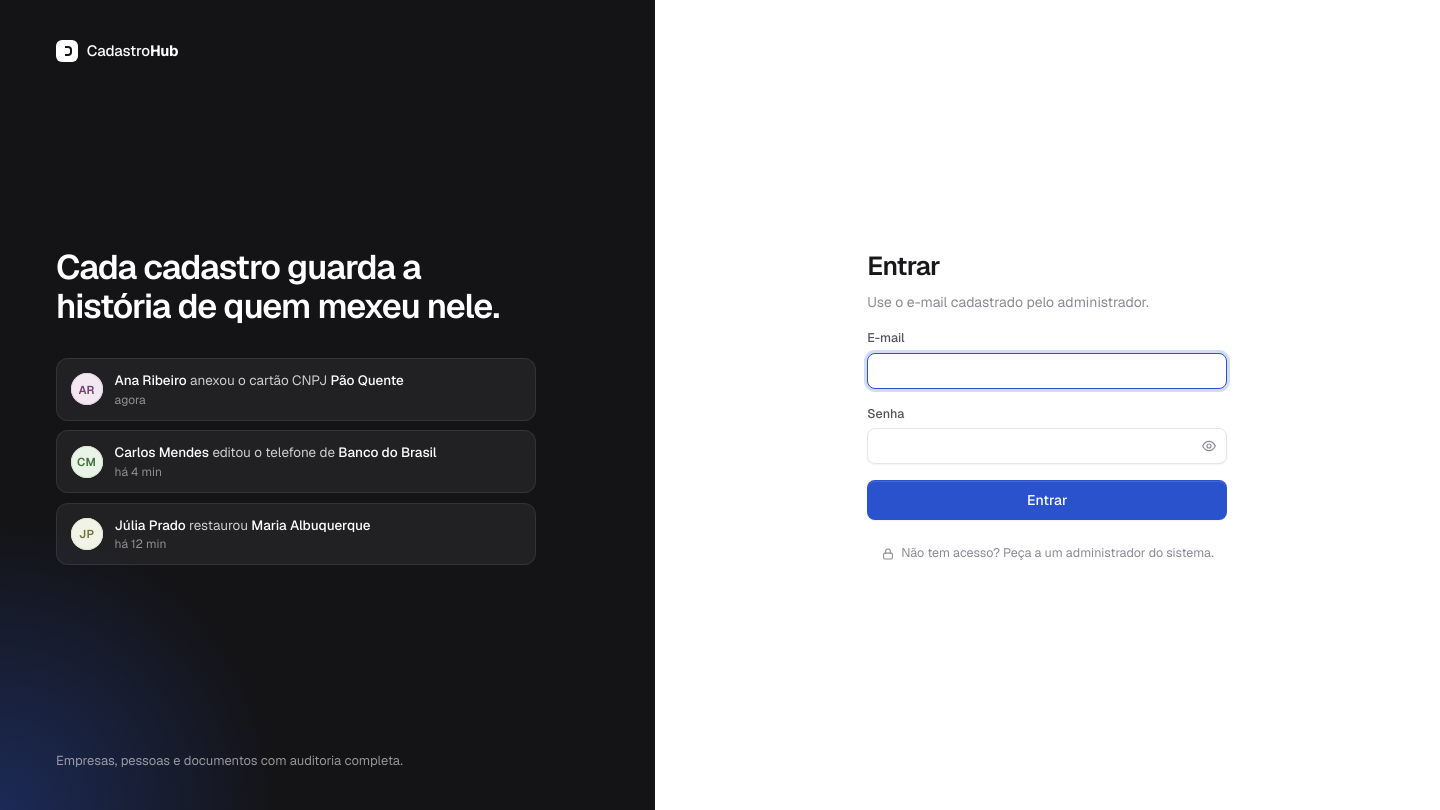
sem sessão, mostra a tela de login e entra no sistema
The image size is (1440, 810).
expect the heading "Entrar" is shown: met, box top-left (867, 249), bottom-right (940, 283)
Type "ana@empresa.com" into the field labelled "E-mail" at {"x": 1047, "y": 371}, box top-left (867, 353), bottom-right (1227, 389)
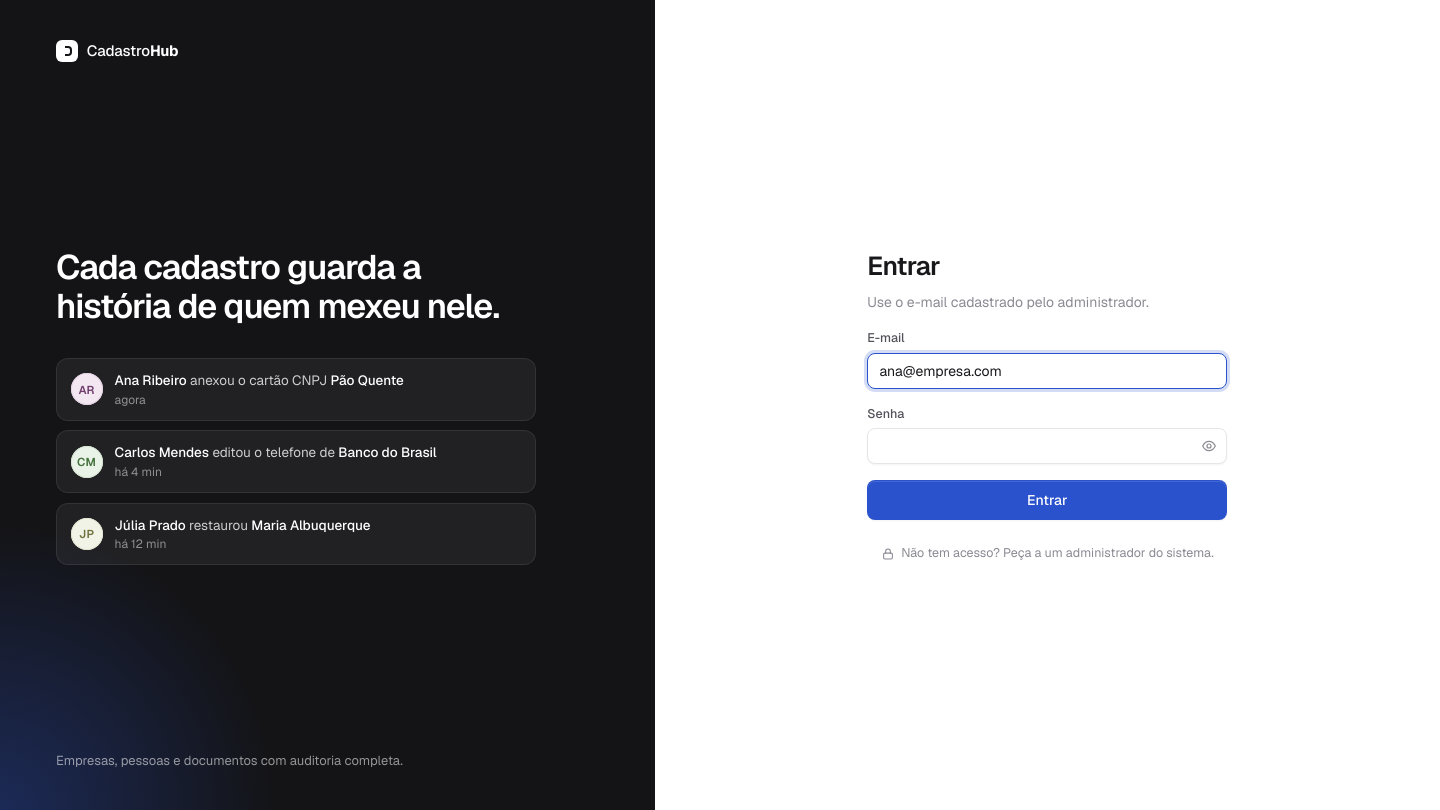
Type "Senha123" into the password field labelled "Senha" at {"x": 1047, "y": 446}, box top-left (867, 428), bottom-right (1227, 464)
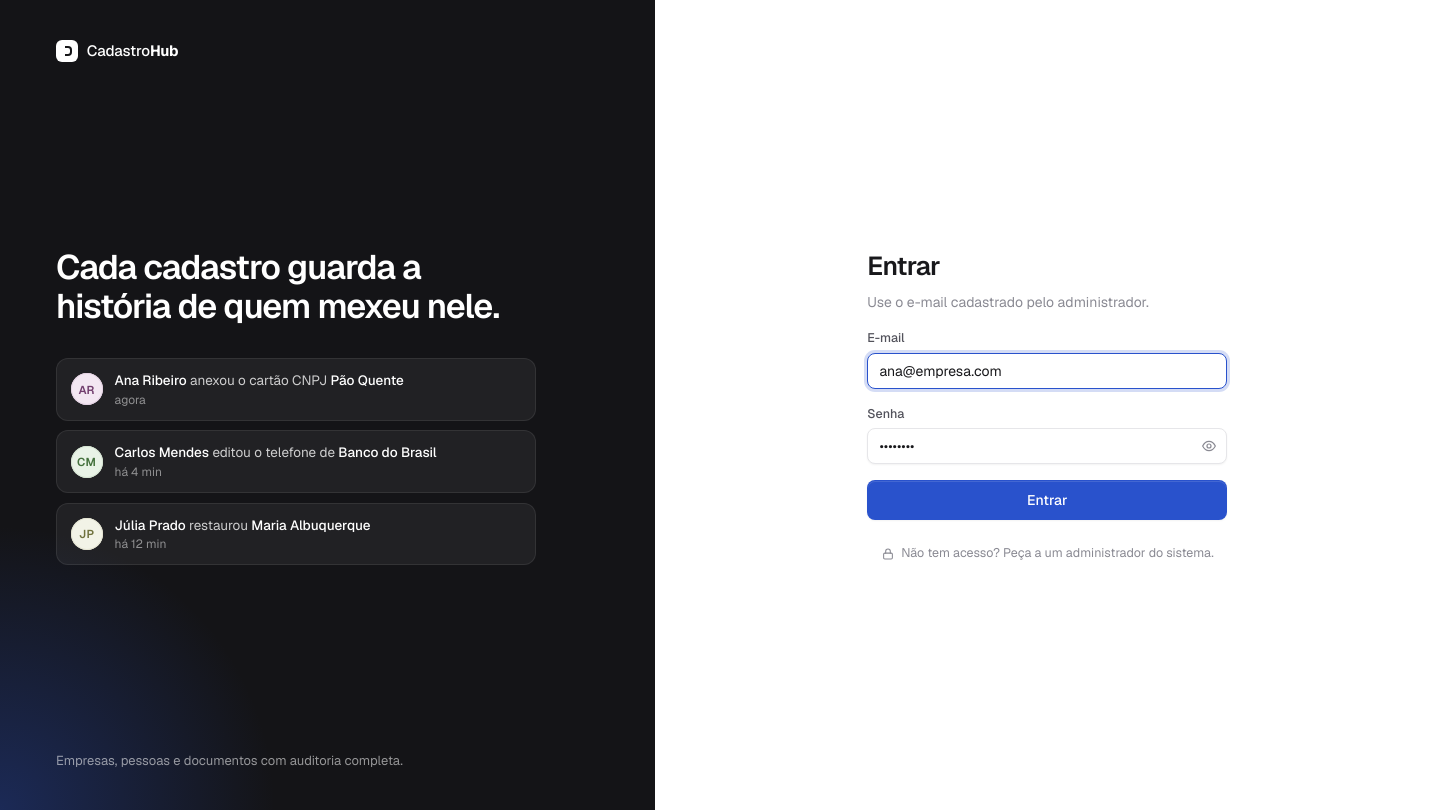
Click the button "Entrar" at {"x": 1047, "y": 500}, box top-left (867, 480), bottom-right (1227, 520)
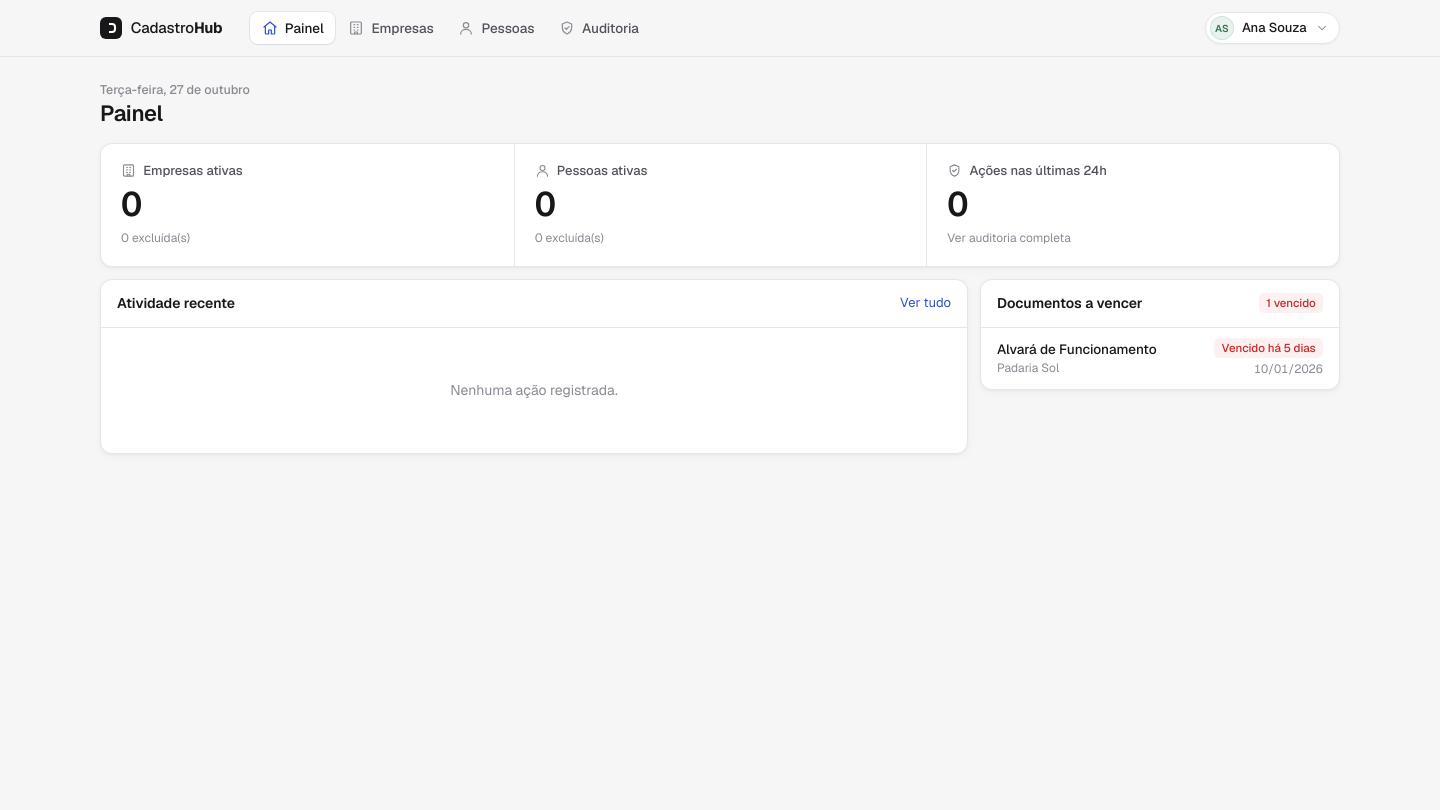
expect the heading "Painel" is shown: met, box top-left (100, 99), bottom-right (162, 127)
expect the button titled "Ana Souza" is shown: met, box top-left (1205, 12), bottom-right (1340, 44)
